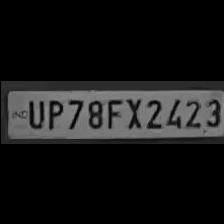2: (140, 95, 162, 129), (182, 94, 200, 128)
3: (202, 95, 222, 127)
4: (162, 94, 182, 128)
7: (62, 96, 82, 130)
8: (84, 96, 104, 128)
F: (104, 96, 122, 128)
P: (43, 97, 63, 129)
U: (22, 96, 44, 128)
X: (121, 95, 141, 129)
